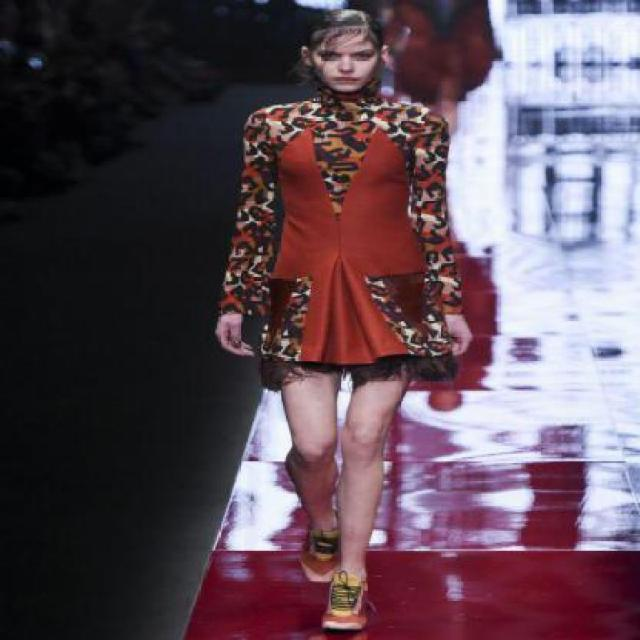Person: (200, 0, 509, 637)
